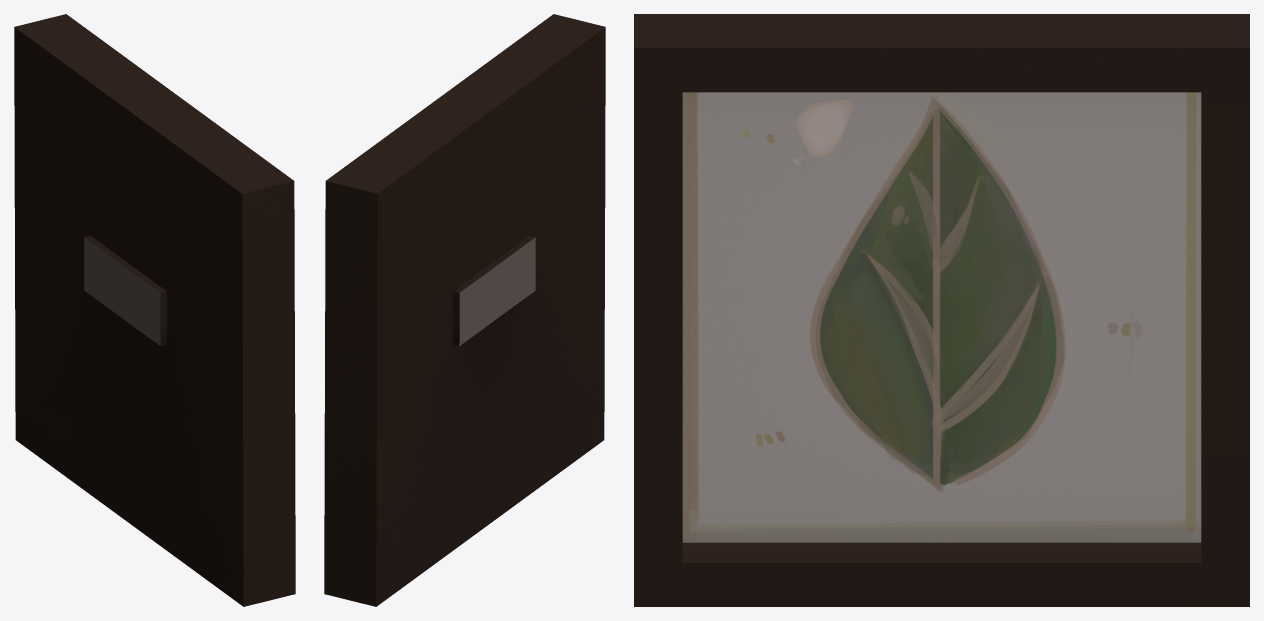
Rendered from Frame_Hanging.fbx.
The picture shows the model from 3 angles, left to right: view 1: azimuth 30°, elevation 25°; view 2: azimuth 150°, elevation 25°; view 3: azimuth 270°, elevation 25°; orthographic projection. The views are drawn at different scales.
Parts seen in each view (by area): view 1: Cube.007; view 2: Cube.007; view 3: Cube.007.
Boxes of the visible parts, x1=… form: Cube.007: x1=14, y1=14, x2=295, y2=606; Cube.007: x1=324, y1=14, x2=605, y2=606; Cube.007: x1=634, y1=14, x2=1249, y2=606.
Size of the model in its own units: 16.19 by 108 by 108.
